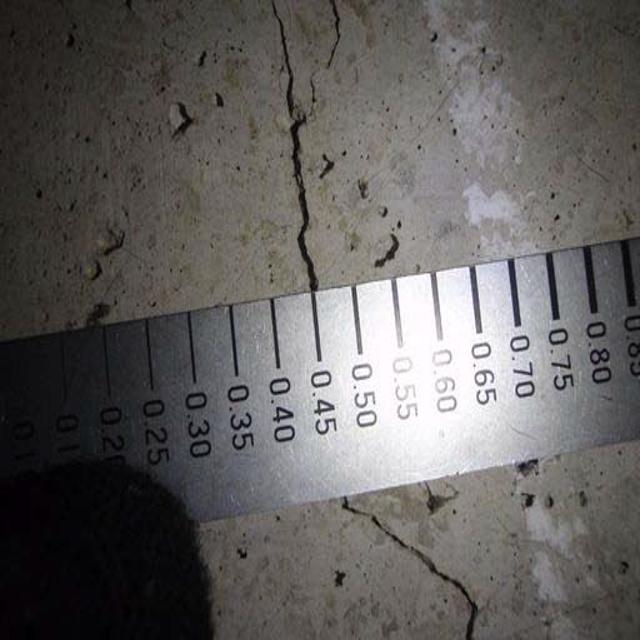crack: (253, 3, 356, 288), (333, 497, 483, 636)
